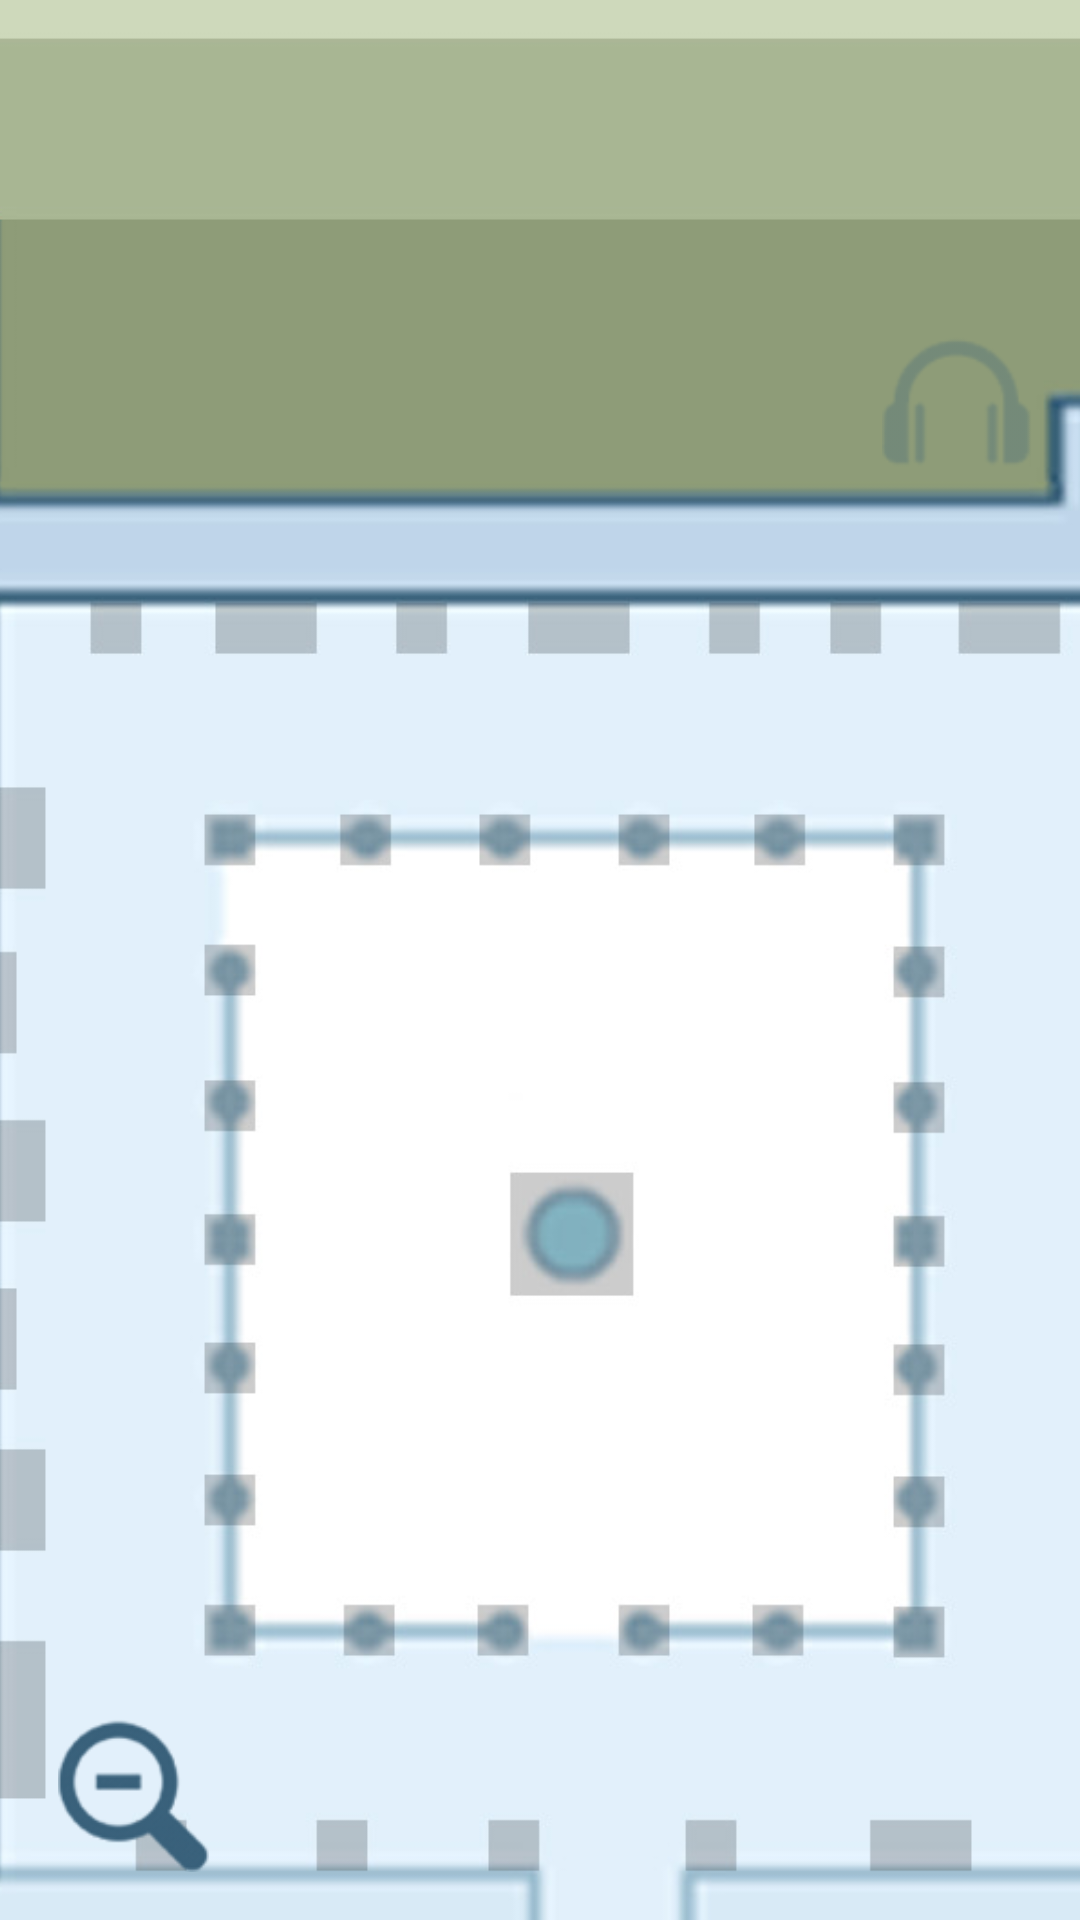

Locate icon controls on the screen. Image size 1080px×1920px, boxes as (x1, y1, x2, y2).
Podcast Inactive: (885, 344, 1027, 461)
Zoom Out: (48, 1721, 219, 1872)
